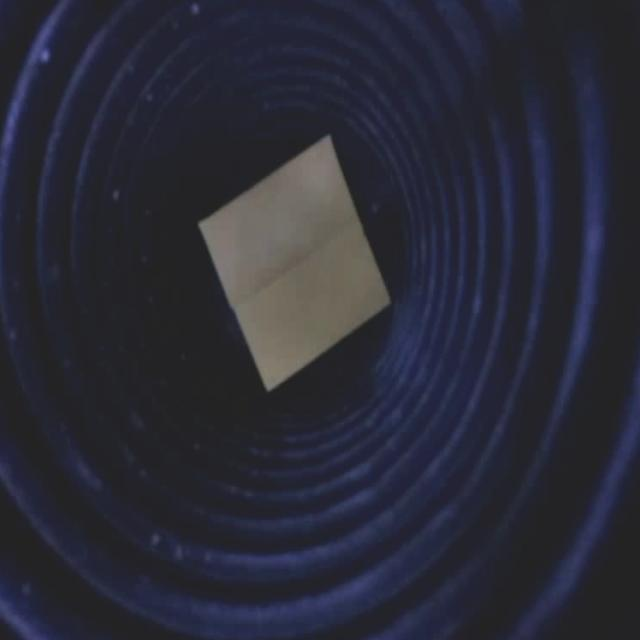obstacles: (198, 133, 389, 397)
